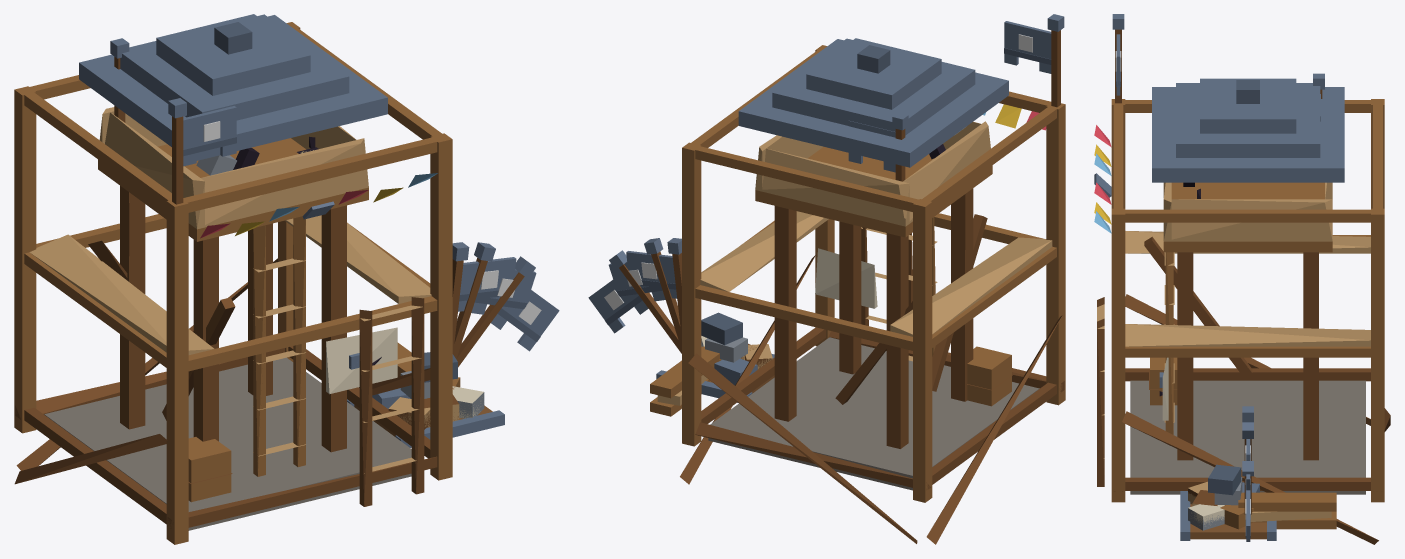
Rendered from raccoon-research.glb.
3 views of the same model, side by side, from view 1: azimuth 30°, elevation 25°; view 2: azimuth 150°, elevation 25°; view 3: azimuth 270°, elevation 25° (orthographic). The views are drawn at different scales.
Visible parts, largest first — view 1: scaffold-mesh, built-mesh, dismantle-75-mesh, dismantle-50-mesh, dismantle-25-mesh, scaffold-banner, dismantle-25-banner, dismantle-75-banner, scaffold-flag-pole, dismantle-25-flag-pole, dismantle-50-flag-pole, dismantle-50-banner (+1 smaller); view 2: scaffold-mesh, built-mesh, dismantle-75-mesh, dismantle-25-mesh, scaffold-banner, dismantle-50-mesh, dismantle-25-banner, dismantle-75-banner, dismantle-25-flag-pole, dismantle-50-banner, scaffold-flag-pole, dismantle-50-flag-pole (+1 smaller); view 3: built-mesh, scaffold-mesh, dismantle-75-mesh, dismantle-25-mesh, dismantle-50-mesh, scaffold-flag-pole.
Boxes of the visible parts, x1,y1,x2,y2 form: scaffold-mesh: (14,22,452,544); built-mesh: (44,14,411,511); dismantle-75-mesh: (93,142,504,530); dismantle-50-mesh: (129,269,504,530); dismantle-25-mesh: (129,352,483,530); scaffold-banner: (183,106,236,166); dismantle-25-banner: (491,282,559,351); dismantle-75-banner: (458,257,516,311); scaffold-flag-pole: (168,98,186,204); dismantle-25-flag-pole: (456,256,535,367); dismantle-50-flag-pole: (453,242,495,358); dismantle-50-banner: (471,269,536,319); scaffold-mesh: (650,45,1065,544); built-mesh: (710,38,1038,475); dismantle-75-mesh: (656,200,991,406); dismantle-25-mesh: (656,312,988,404); scaffold-banner: (1004,21,1051,73); dismantle-50-mesh: (656,339,1012,405); dismantle-25-banner: (588,276,648,333); dismantle-75-banner: (626,251,677,298); dismantle-25-flag-pole: (609,250,681,353); dismantle-50-banner: (608,259,665,305); scaffold-flag-pole: (1047,14,1064,107); dismantle-50-flag-pole: (644,238,681,349); built-mesh: (1130,78,1365,477); scaffold-mesh: (1094,99,1390,544); dismantle-75-mesh: (1134,234,1338,539); dismantle-25-mesh: (1188,464,1259,526); dismantle-50-mesh: (1130,298,1365,540); scaffold-flag-pole: (1112,14,1124,103).
Size of the model in its own units: 2.35 by 2.34 by 1.51.
